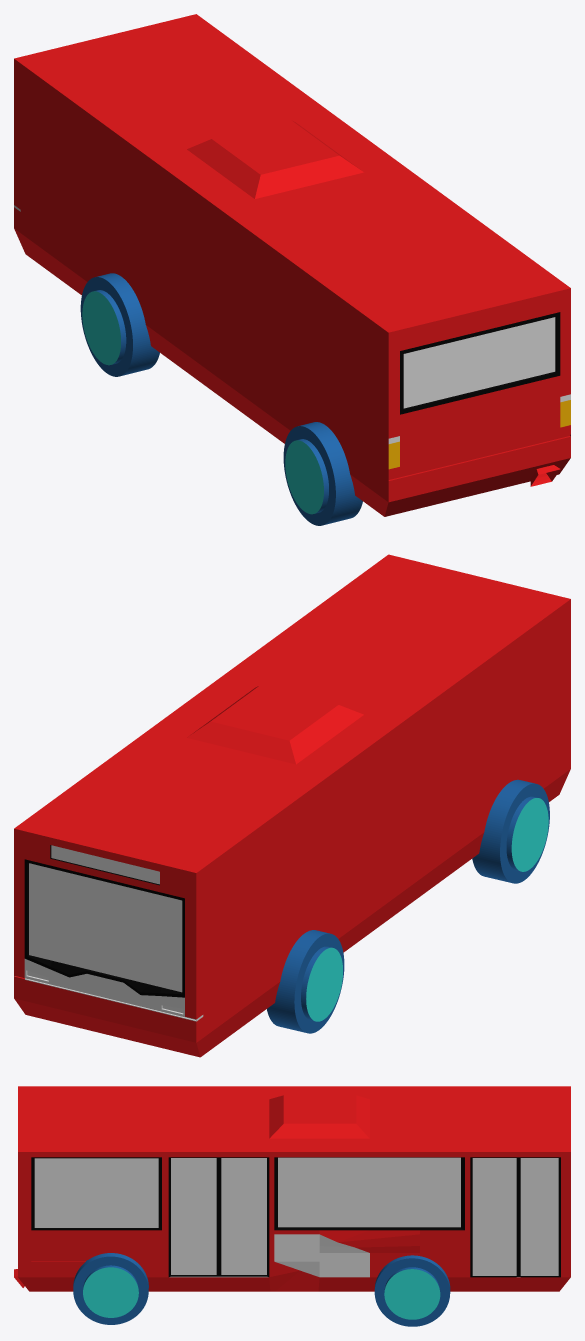
File: otobus-2.fbx
3 renders of one model, top to bottom at view 1: azimuth 30°, elevation 25°; view 2: azimuth 150°, elevation 25°; view 3: azimuth 270°, elevation 25°, orthographic. The views are drawn at different scales.
Visible parts, largest first — view 1: Cube, Cylinder.003, Cylinder.002; view 2: Cube, Cylinder.003, Cylinder.002; view 3: Cube, Cylinder.001, Cylinder.004.
Boxes of the visible parts, <box> form: Cube: <box>14,14,570,516</box>; Cylinder.003: <box>283,422,362,525</box>; Cylinder.002: <box>80,273,159,376</box>; Cube: <box>14,554,570,1057</box>; Cylinder.003: <box>472,779,549,883</box>; Cylinder.002: <box>267,930,344,1033</box>; Cube: <box>14,1086,570,1291</box>; Cylinder.001: <box>73,1253,148,1324</box>; Cylinder.004: <box>374,1255,450,1326</box>.
Size of the model in its own units: 481 by 514 by 1427.
